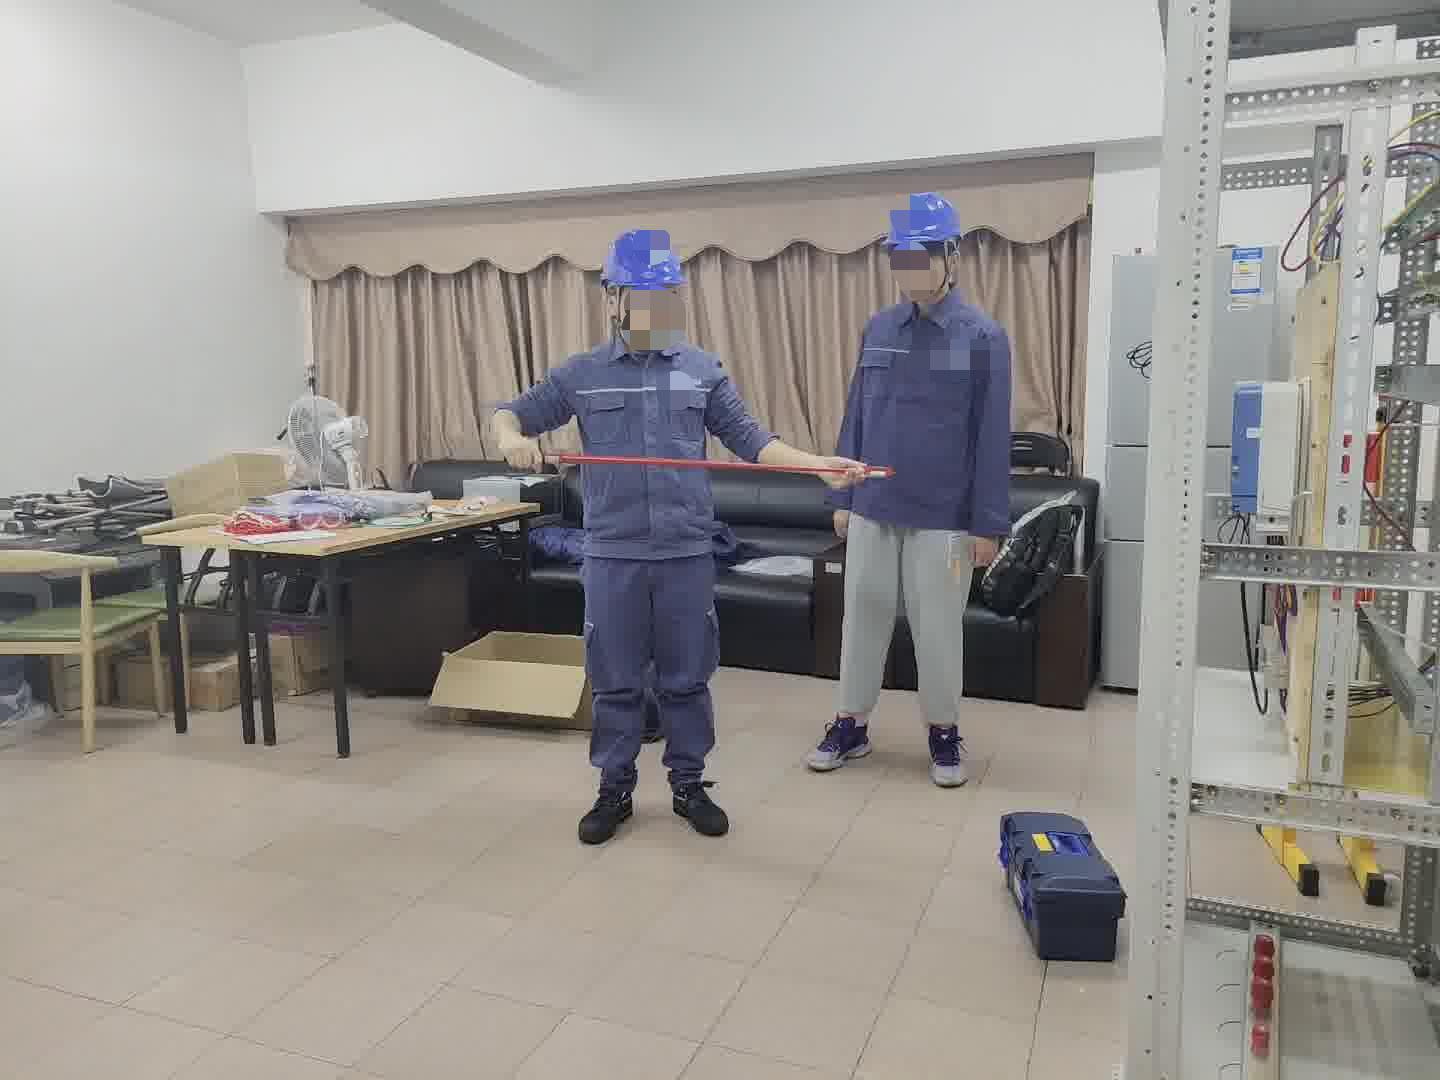halt: (600, 229, 693, 346), (883, 192, 969, 299)
inear: (933, 242, 963, 303), (601, 288, 632, 334)
